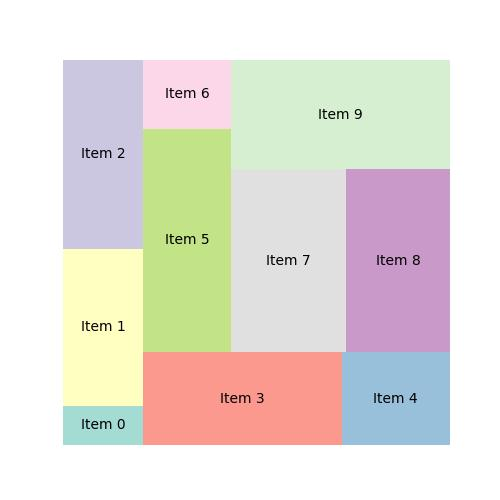rectangle: (231, 60, 449, 170), (231, 169, 346, 352), (144, 129, 231, 353), (346, 169, 449, 354), (143, 351, 344, 444), (61, 59, 145, 251), (61, 249, 144, 406), (342, 352, 451, 447), (144, 59, 231, 129), (61, 404, 143, 446)
